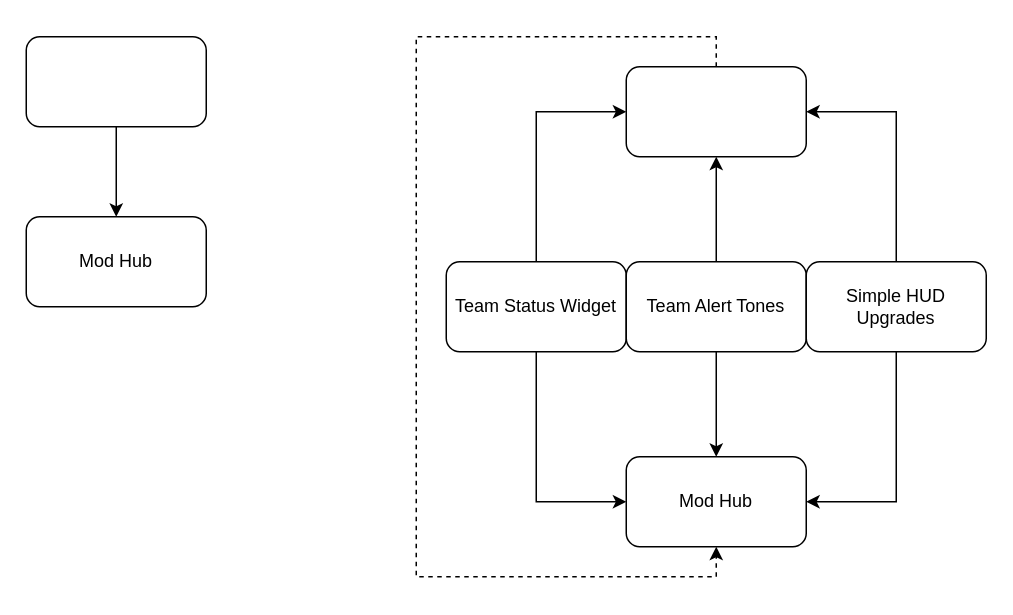
This 1013x615 diagram has some shape labels left out. The centre of each missing label's shape, as x and y in pixels:
Team Status Monitor: pixel 715 111
Team Status Widget & Chat Alert Tones: pixel 115 81
